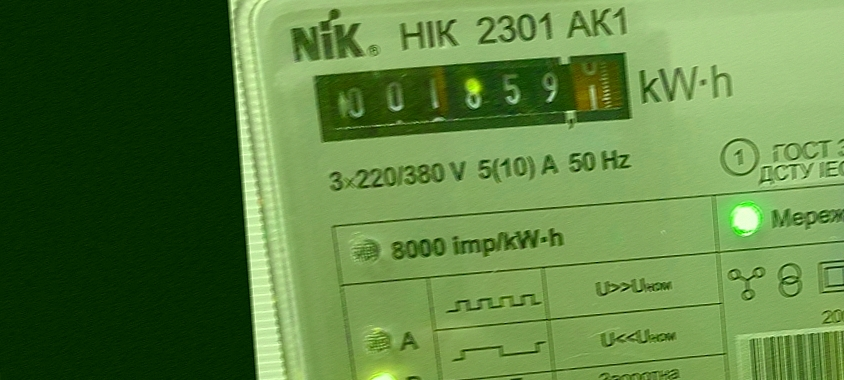0: (343, 85, 365, 122), (382, 80, 404, 115)
1: (426, 76, 440, 113), (584, 82, 599, 114)
5: (499, 71, 522, 108)
8: (461, 76, 483, 113)
9: (538, 71, 560, 106)
screen: (301, 41, 642, 155)
